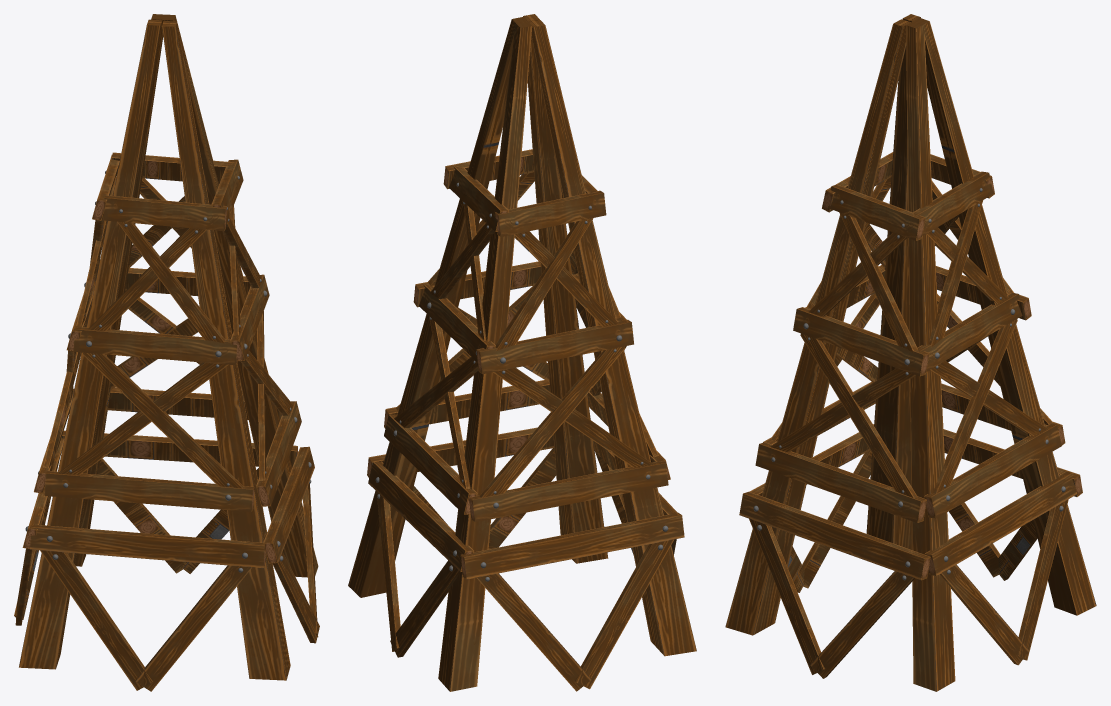
The model's file is windmill.001.fbx.
The picture shows the model from 3 angles, left to right: view 1: azimuth 30°, elevation 25°; view 2: azimuth 150°, elevation 25°; view 3: azimuth 270°, elevation 25°; orthographic projection.
Parts seen in each view (by area): view 1: windmill.001; view 2: windmill.001; view 3: windmill.001.
Part boxes in pixels (<box>): windmill.001: <box>14,14,319,691</box>; windmill.001: <box>348,14,696,691</box>; windmill.001: <box>725,14,1096,691</box>.
Bounding box in the file's own units: 795 × 1432 × 797.
Materials: 1 (1 with a texture image).
